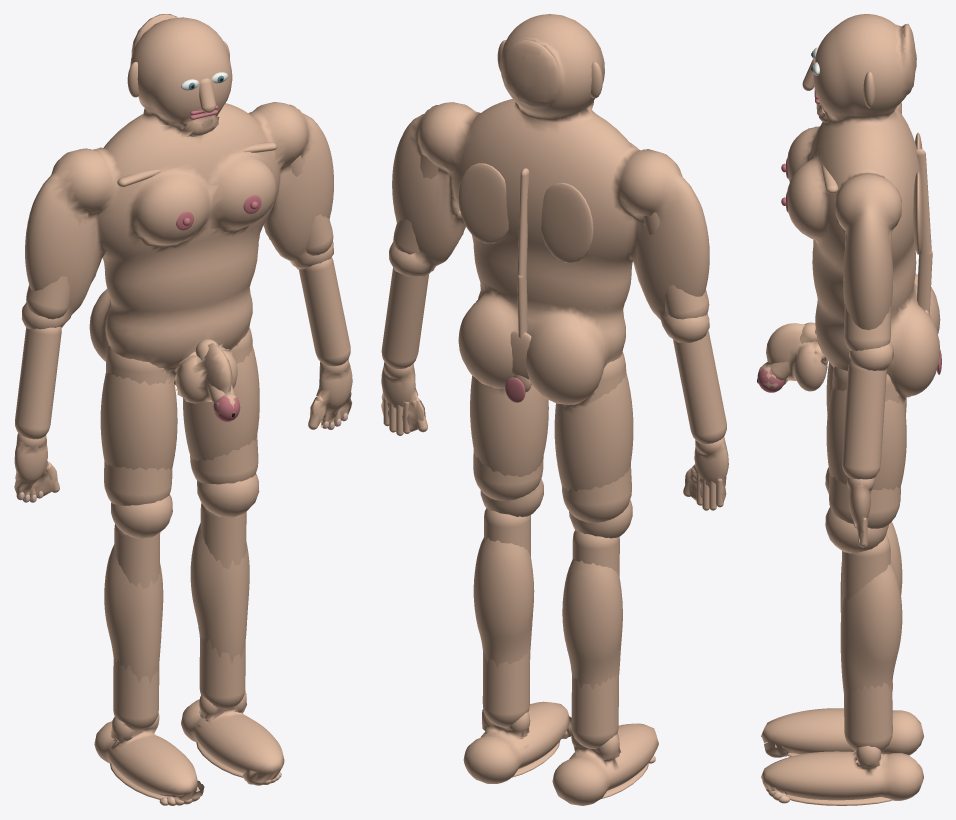
Rendered from body-erwachsener-divers-penis-brueste-v2.glb.
The picture shows the model from 3 angles, left to right: view 1: azimuth 30°, elevation 25°; view 2: azimuth 150°, elevation 25°; view 3: azimuth 270°, elevation 25°; orthographic projection. The views are drawn at different scales.
Parts seen in each view (by area): view 1: zone__visual-surface-body-erwachsener-divers-penis-brueste, zone__surface-lower-leg-right, zone__surface-lower-leg-left, zone__surface-forearm-left, zone__surface-thigh-left, zone__surface-forearm-right, zone__surface-thigh-right, zone__surface-upper-arm-left, zone__surface-upper-arm-right; view 2: zone__visual-surface-body-erwachsener-divers-penis-brueste, zone__surface-lower-leg-left, zone__surface-lower-leg-right, zone__surface-forearm-left, zone__surface-forearm-right, zone__surface-scapula-left, zone__surface-scapula-right, zone__surface-thigh-left, zone__surface-thigh-right, zone__surface-upper-arm-left, zone__surface-thoracic-spine, zone__surface-upper-arm-right (+1 smaller); view 3: zone__visual-surface-body-erwachsener-divers-penis-brueste, zone__surface-lower-leg-right, zone__surface-forearm-right, zone__surface-thigh-right, zone__surface-upper-arm-right, zone__surface-thoracic-spine, zone__surface-lumbar-spine, zone__surface-scapula-right, zone__surface-sole-right, zone__surface-penis, zone__surface-glans, zone__surface-ear-right (+1 smaller).
Boxes of the visible parts, <box> form: zone__visual-surface-body-erwachsener-divers-penis-brueste: <box>14,14,352,800</box>; zone__surface-lower-leg-right: <box>199,503,246,709</box>; zone__surface-lower-leg-left: <box>113,524,160,730</box>; zone__surface-forearm-left: <box>15,326,61,439</box>; zone__surface-thigh-left: <box>104,346,172,505</box>; zone__surface-forearm-right: <box>299,257,350,366</box>; zone__surface-thigh-right: <box>190,327,258,484</box>; zone__surface-upper-arm-left: <box>26,213,88,319</box>; zone__surface-upper-arm-right: <box>290,155,333,255</box>; zone__visual-surface-body-erwachsener-divers-penis-brueste: <box>381,14,728,805</box>; zone__surface-lower-leg-left: <box>571,530,619,748</box>; zone__surface-lower-leg-right: <box>482,508,530,727</box>; zone__surface-forearm-left: <box>673,330,726,443</box>; zone__surface-forearm-right: <box>381,267,428,368</box>; zone__surface-scapula-left: <box>541,182,593,263</box>; zone__surface-scapula-right: <box>458,163,508,243</box>; zone__surface-thigh-left: <box>562,352,631,522</box>; zone__surface-thigh-right: <box>473,449,543,500</box>; zone__surface-upper-arm-left: <box>643,212,709,319</box>; zone__surface-thoracic-spine: <box>517,168,529,281</box>; zone__surface-upper-arm-right: <box>393,155,454,254</box>; zone__visual-surface-body-erwachsener-divers-penis-brueste: <box>757,14,940,800</box>; zone__surface-lower-leg-right: <box>842,535,892,751</box>; zone__surface-forearm-right: <box>842,359,886,479</box>; zone__surface-thigh-right: <box>829,367,900,528</box>; zone__surface-upper-arm-right: <box>844,229,891,351</box>; zone__surface-thoracic-spine: <box>915,148,931,258</box>; zone__surface-lumbar-spine: <box>917,251,932,313</box>; zone__surface-scapula-right: <box>913,171,923,254</box>; zone__surface-sole-right: <box>786,794,892,805</box>; zone__surface-penis: <box>770,322,817,380</box>; zone__surface-glans: <box>757,368,784,392</box>; zone__surface-ear-right: <box>863,71,875,108</box>.
Size of the model in its own units: 0.8174 by 1.72 by 0.3807.
